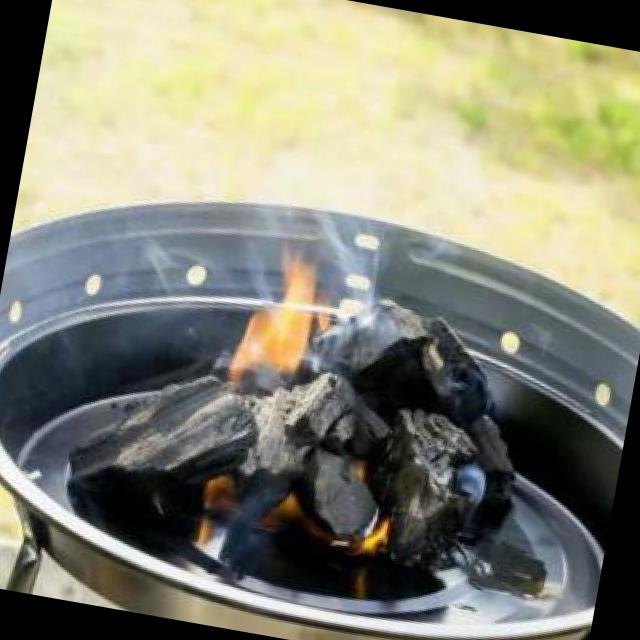Fire: (204, 232, 336, 408)
